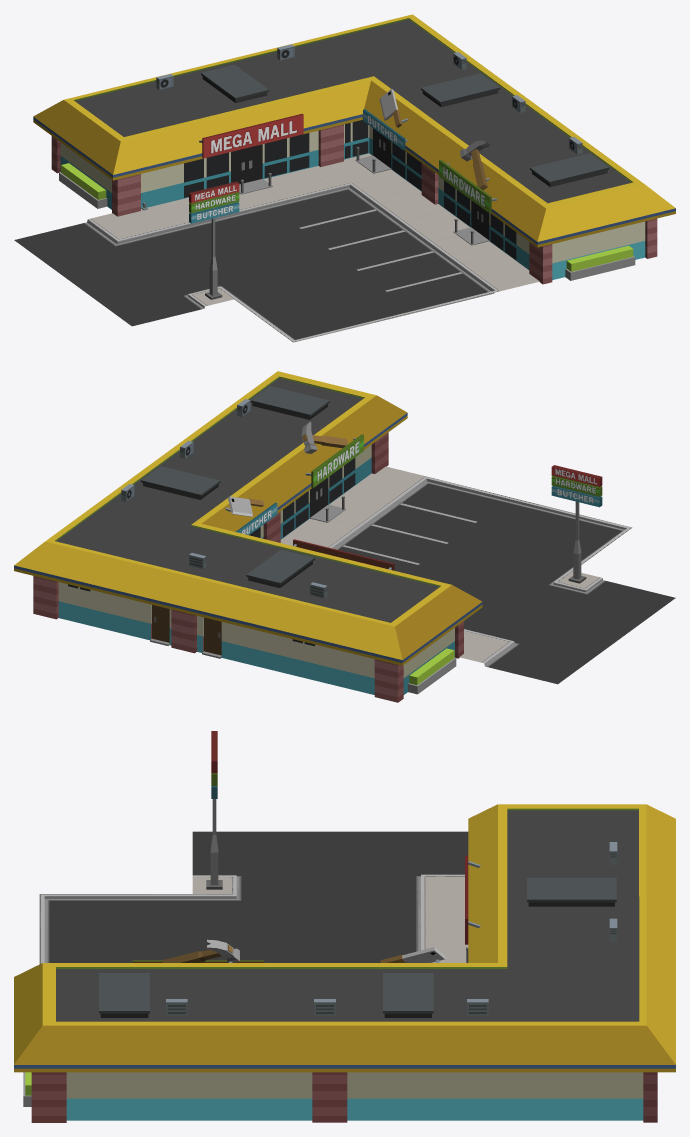
Rendered from mall.obj.
The picture shows the model from 3 angles, top to bottom: view 1: azimuth 30°, elevation 25°; view 2: azimuth 150°, elevation 25°; view 3: azimuth 270°, elevation 25°; orthographic projection. The views are drawn at different scales.
Parts seen in each view (by area): view 1: ST_Building_Mall_Untitled, Carpark_Untitled.001, Prop_MallSign_Untitled.002; view 2: ST_Building_Mall_Untitled, Carpark_Untitled.001, Prop_MallSign_Untitled.002; view 3: ST_Building_Mall_Untitled, Carpark_Untitled.001, Prop_MallSign_Untitled.002.
Boxes of the visible parts, bbox=[...] form: ST_Building_Mall_Untitled: bbox=[33, 14, 675, 284]; Carpark_Untitled.001: bbox=[14, 153, 539, 342]; Prop_MallSign_Untitled.002: bbox=[189, 181, 239, 299]; ST_Building_Mall_Untitled: bbox=[14, 371, 482, 702]; Carpark_Untitled.001: bbox=[280, 466, 675, 684]; Prop_MallSign_Untitled.002: bbox=[551, 465, 602, 583]; ST_Building_Mall_Untitled: bbox=[14, 804, 675, 1122]; Carpark_Untitled.001: bbox=[39, 831, 468, 964]; Prop_MallSign_Untitled.002: bbox=[206, 731, 222, 889].
Size of the model in its own units: 46.53 by 10.29 by 43.19.
1 material, 1 textured.
